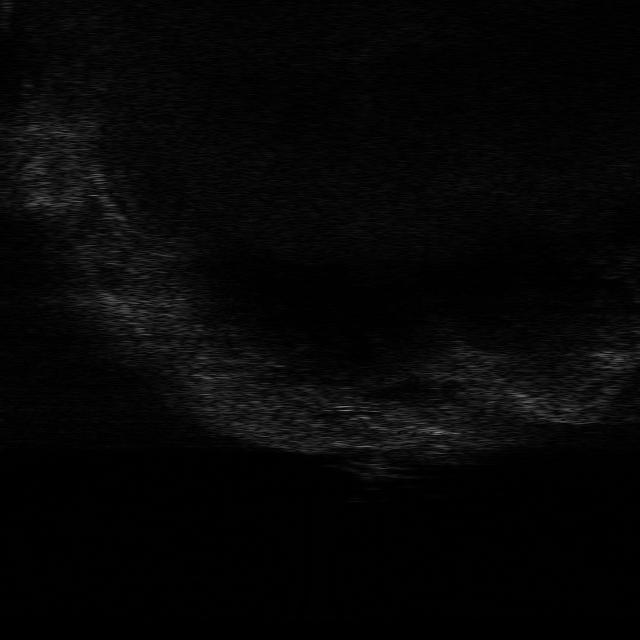plane: (332, 456, 417, 481)
